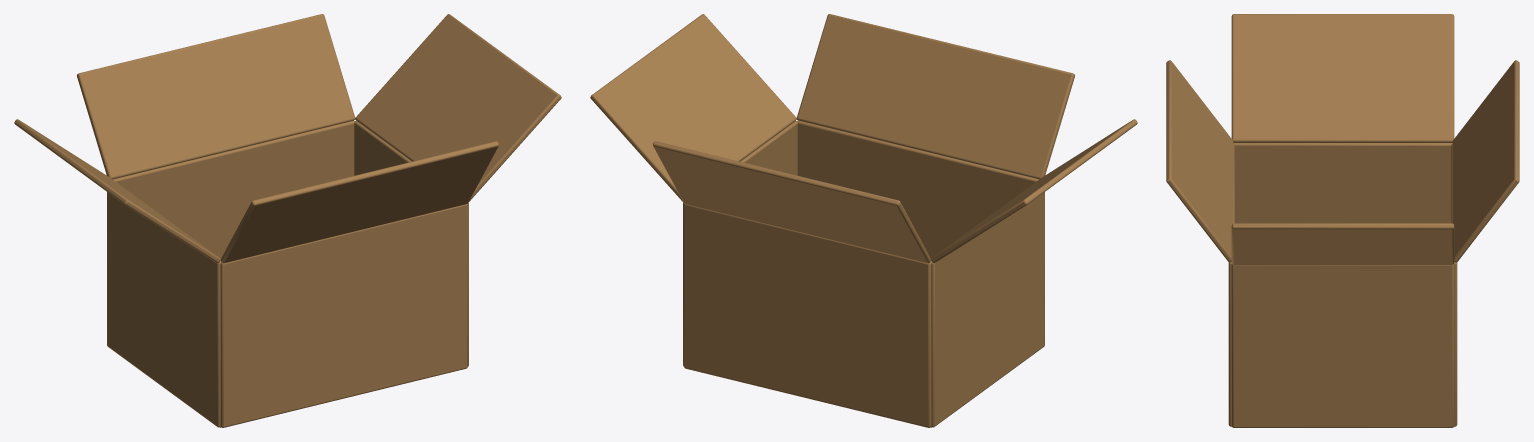
File: item_card_box_small.fbx
3 views of the same model, side by side, from view 1: azimuth 30°, elevation 25°; view 2: azimuth 150°, elevation 25°; view 3: azimuth 270°, elevation 25° (orthographic).
Parts seen in each view (by area): view 1: item_card_box_small; view 2: item_card_box_small; view 3: item_card_box_small.
Boxes of the visible parts, box(x1,y1,x2,y2) form: item_card_box_small: box(14, 14, 561, 427); item_card_box_small: box(590, 14, 1137, 427); item_card_box_small: box(1166, 14, 1519, 427).
Size of the model in its own units: 0.4967 by 0.2714 by 0.3495.
